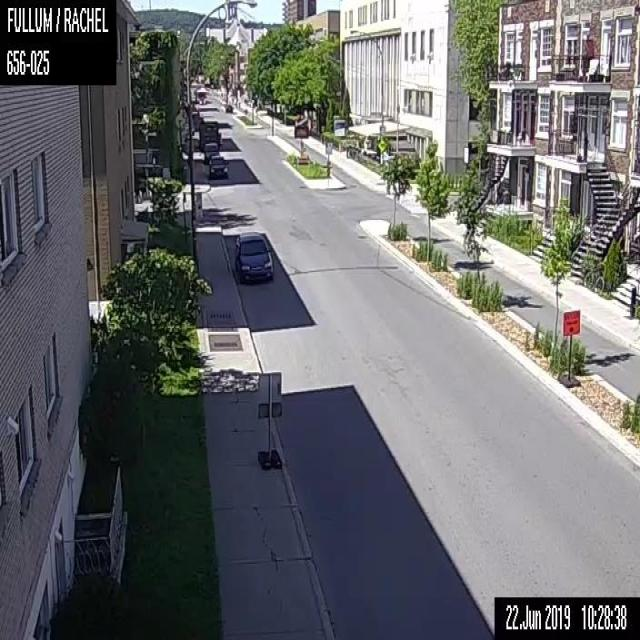construction: (293, 125, 309, 163), (563, 308, 579, 335)
vehicle: (235, 231, 272, 282), (208, 155, 227, 177), (203, 142, 218, 164), (196, 89, 205, 104), (225, 104, 232, 112)
